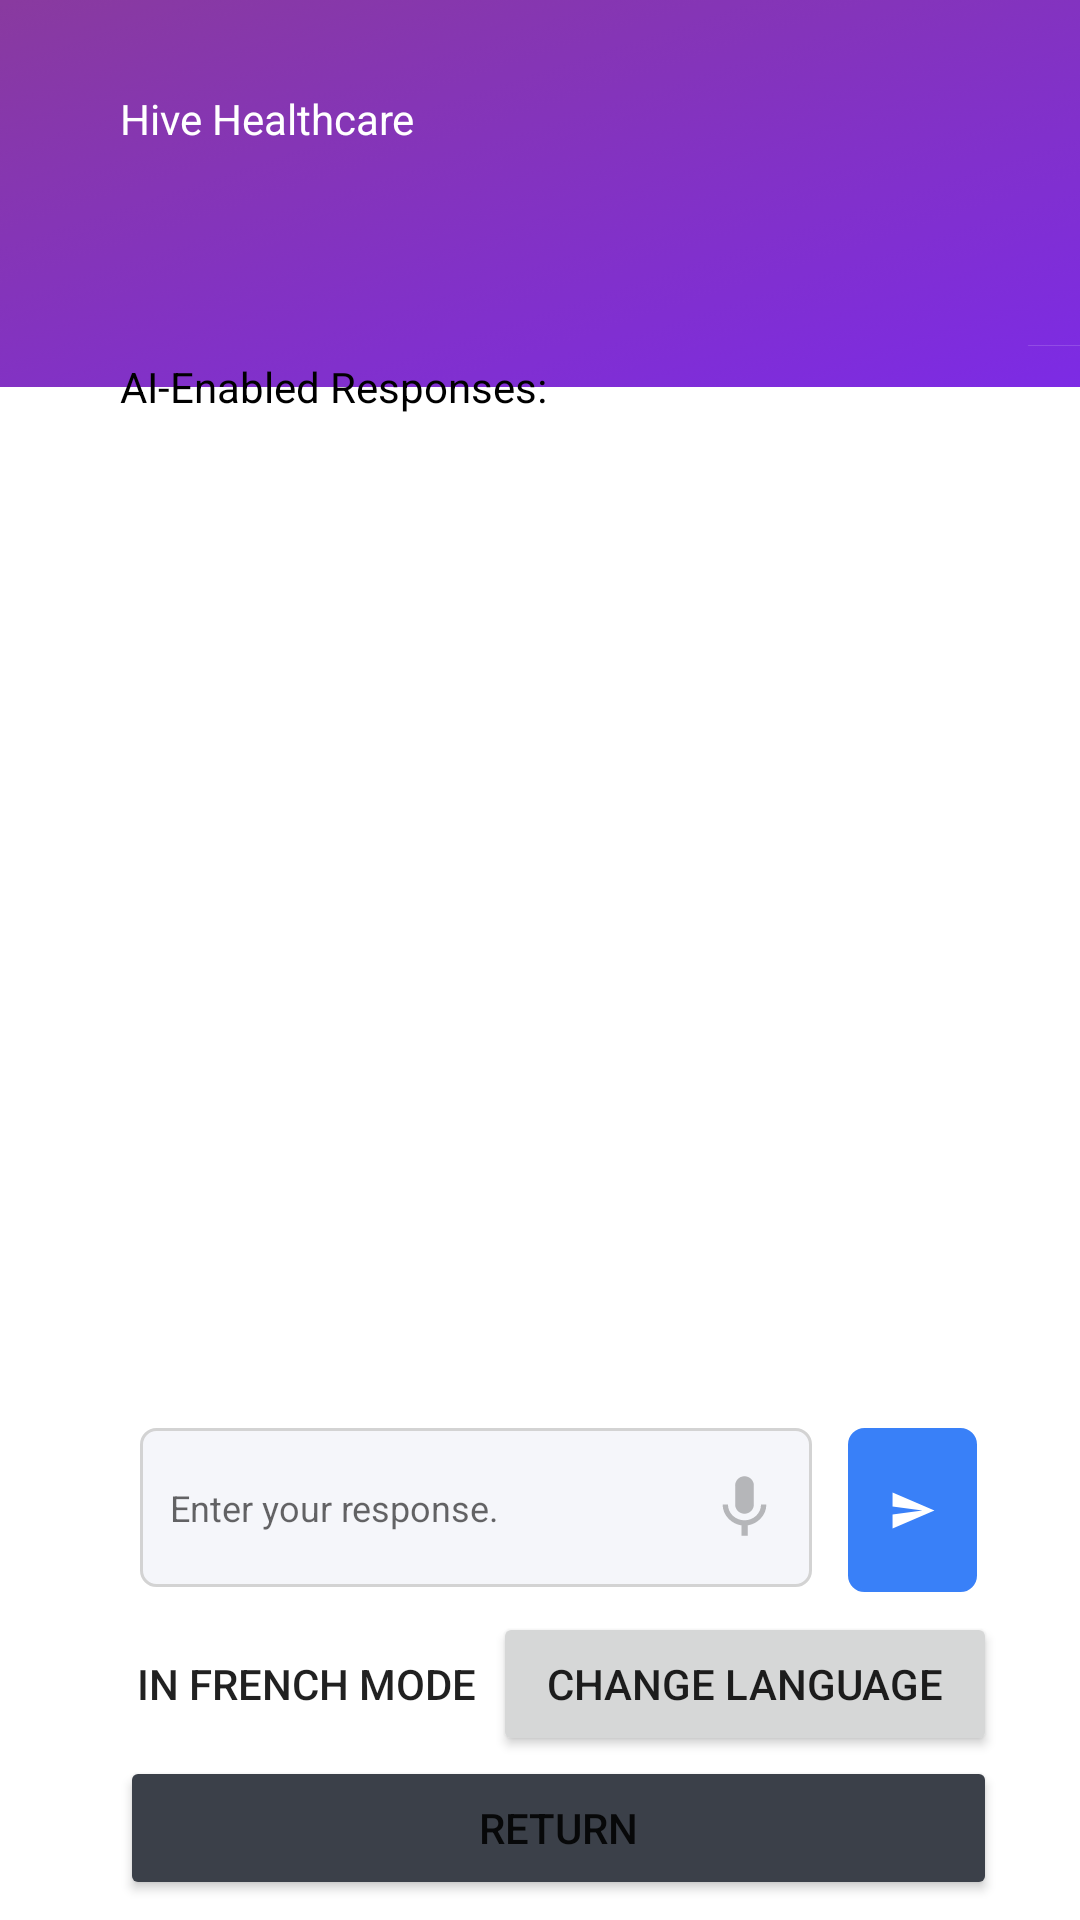

Screen size 1080x1920. Icon name, then its box in pixels as (x1, y1, x2, y2):
mic: (723, 1476, 766, 1536)
send: (848, 1428, 977, 1592)
